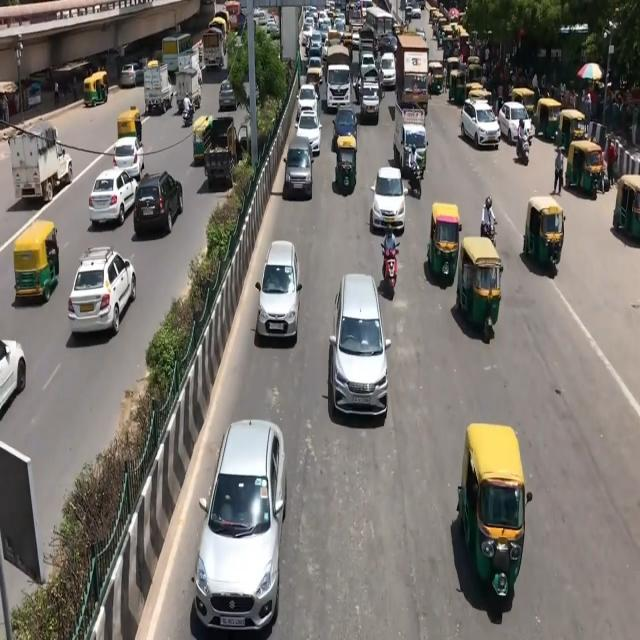Bike: (474, 190, 502, 238), (407, 151, 428, 204)
Scooty: (379, 232, 412, 300), (513, 120, 534, 166)
